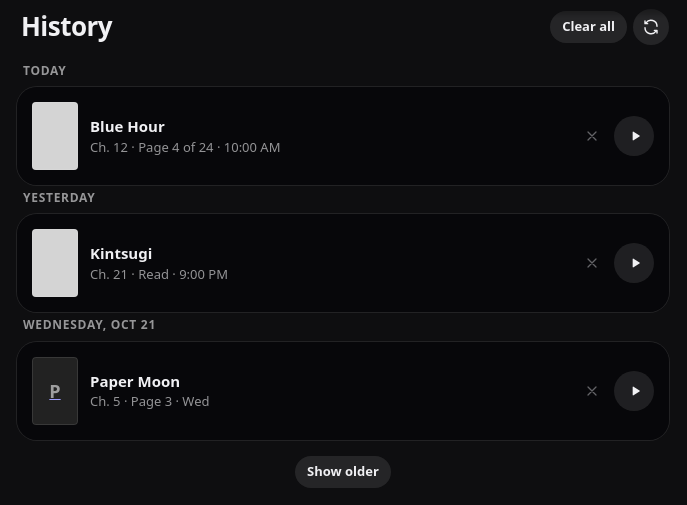
clears all after a second tap
The image size is (687, 505).
Check: the heading "Today" is shown, box [23,62,67,79]
Click the button "Clear all": (589, 27) [550,11,627,43]
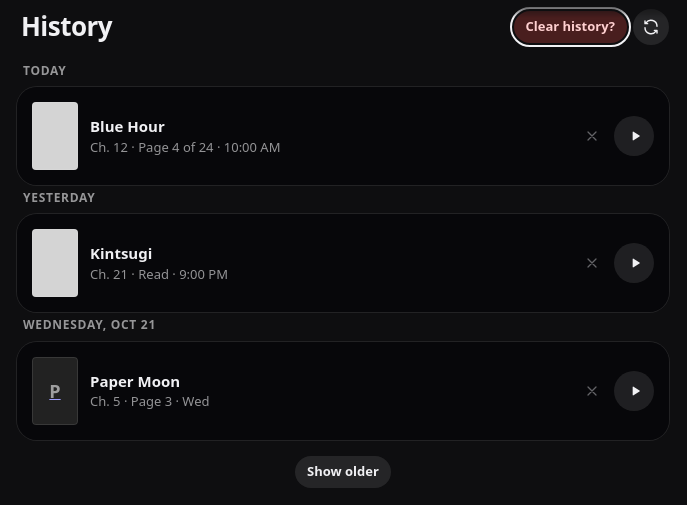
Check: the number of buttons named "Resume " is 3, box [614,116,654,156]; [614,244,654,284]; [614,371,654,411]
Click the button "Clear history?": (570, 27) [514,11,627,43]
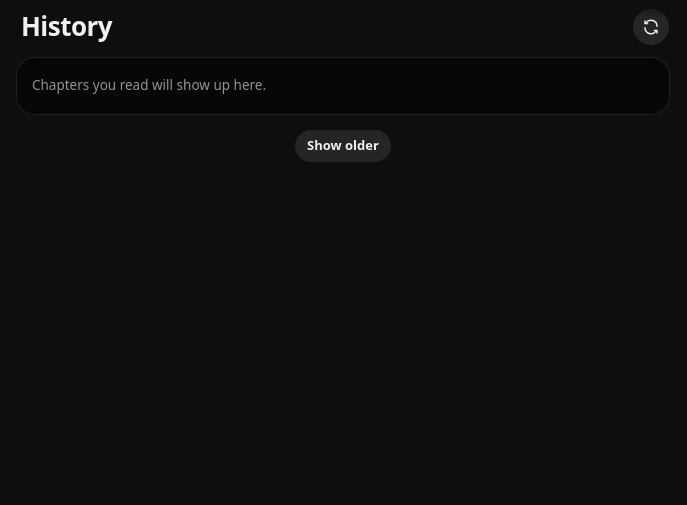
Check: the text "Chapters you read will show up here." is shown, box [17,58,669,114]
